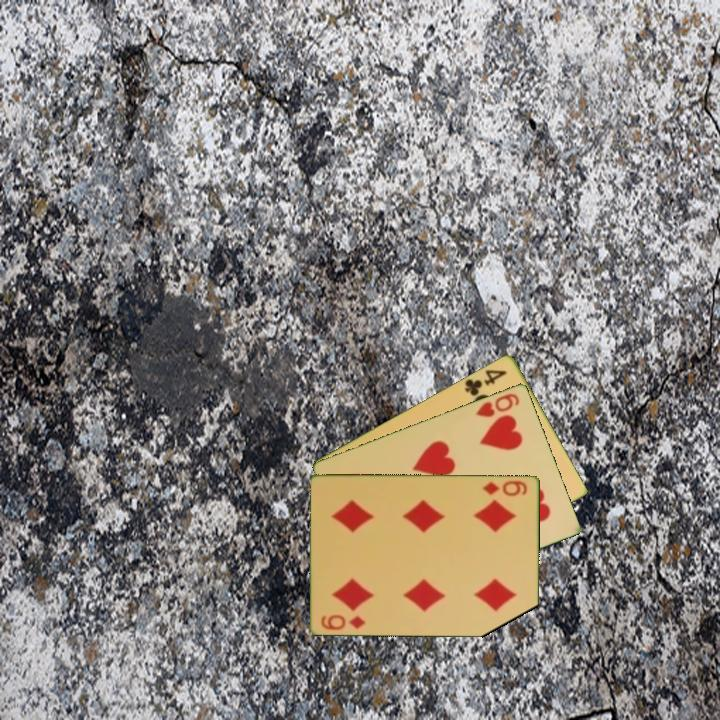4c: (461, 366, 510, 401)
6d: (318, 610, 369, 633), (479, 477, 530, 498)
6h: (472, 389, 523, 420)
